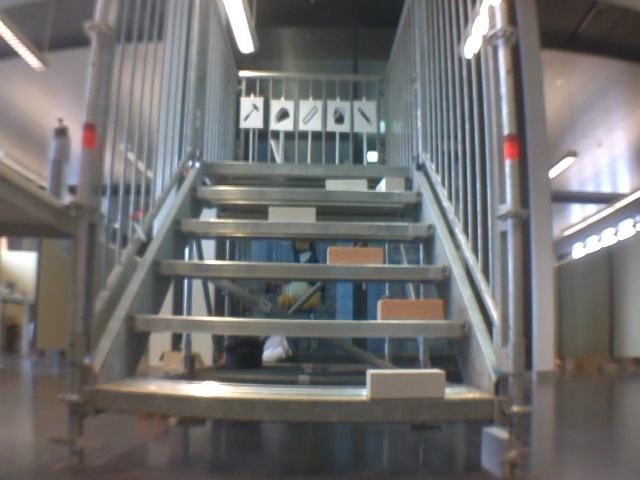brick: (366, 369, 444, 397), (378, 299, 443, 319), (327, 247, 382, 265), (269, 208, 314, 223), (325, 179, 366, 190), (377, 177, 404, 191)
bucket: (332, 105, 346, 126)
edge: (94, 389, 494, 421), (128, 316, 470, 336), (150, 260, 451, 278), (174, 220, 436, 236), (191, 187, 424, 202), (202, 161, 410, 176)
hammer: (240, 102, 259, 123)
pencil: (356, 105, 373, 126)
ruler: (302, 101, 320, 128)
stairs: (66, 1, 530, 476)
steps: (88, 155, 498, 426)
taco: (273, 104, 292, 125)
